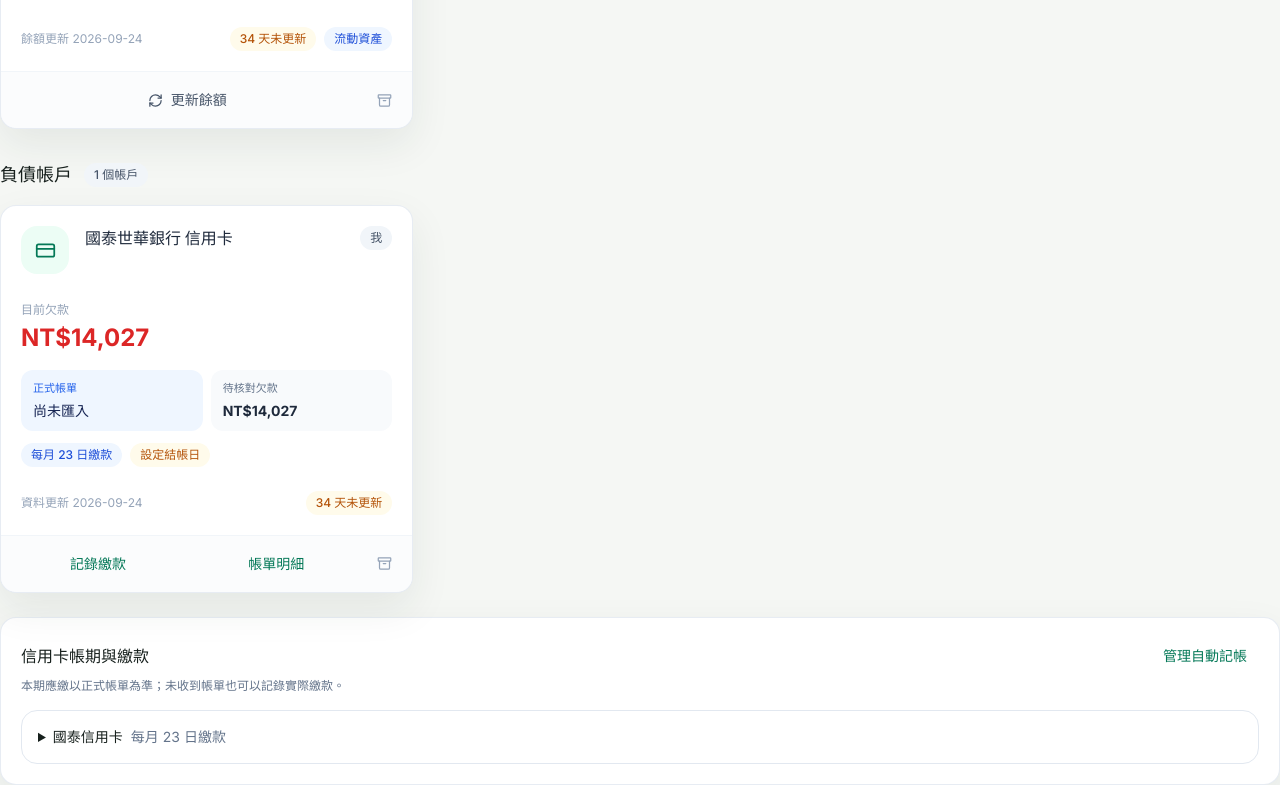
records a credit-card payment without requiring a formal bill
(page scrolled)
Expected: the text "待核對欠款" is shown, [223, 381, 278, 395]
Step 1. Click the button "記錄繳款" → (98, 564), box [9, 544, 187, 584]
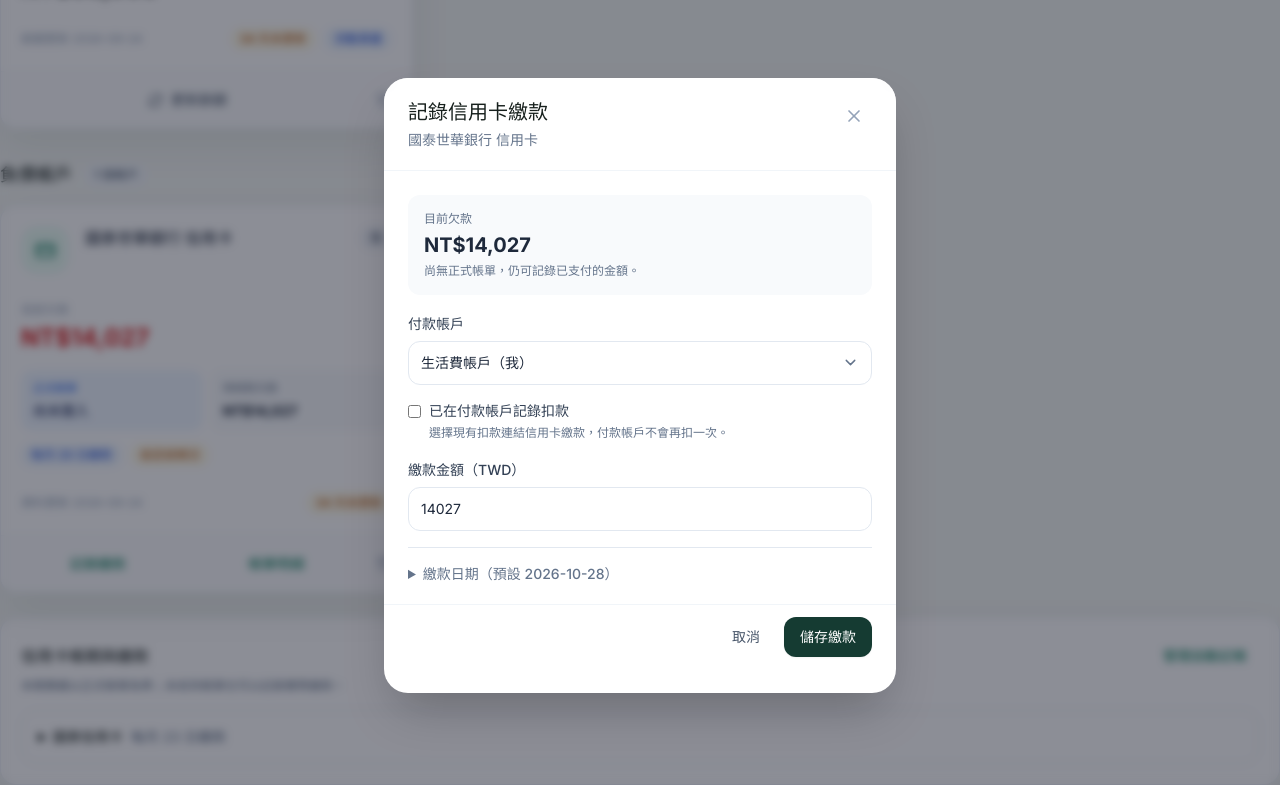
Now the text "尚無正式帳單，仍可記錄已支付的金額。" is shown, box [424, 262, 640, 278]
Now the number field labelled "繳款金額（TWD）" holds "14027", box [408, 486, 872, 530]
Step 2. Click the button "儲存繳款" → (828, 636), box [784, 616, 872, 656]
(page scrolled)
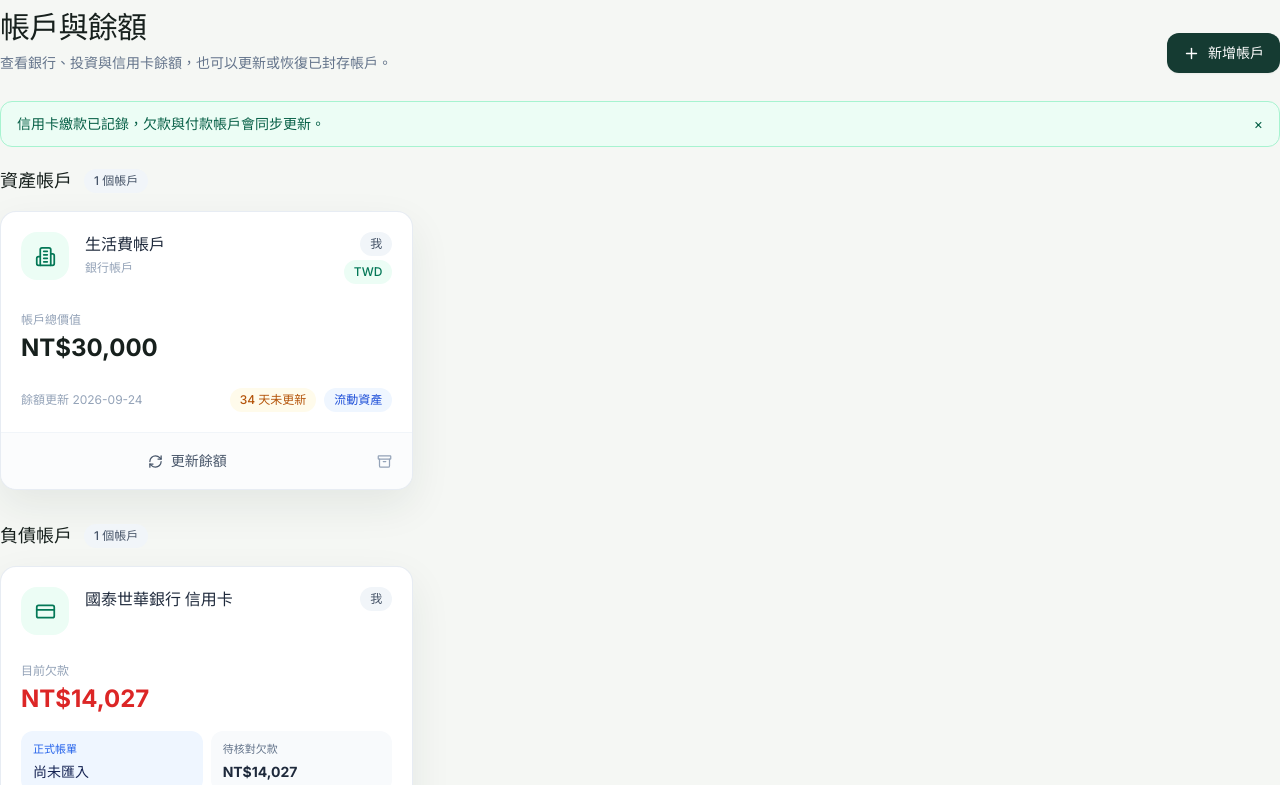
Now the text "信用卡繳款已記錄，欠款與付款帳戶會同步更新。" is shown, box [17, 115, 325, 132]
